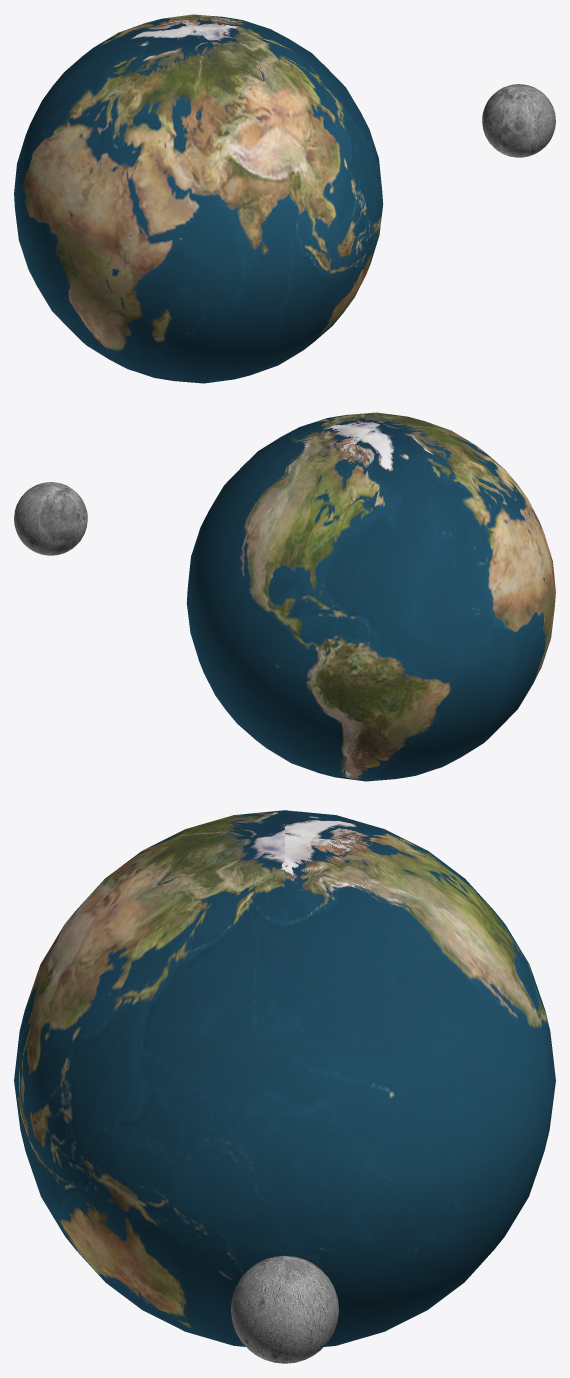
File: Earth.fbx
3 views of the same model, one above another, from view 1: azimuth 30°, elevation 25°; view 2: azimuth 150°, elevation 25°; view 3: azimuth 270°, elevation 25° (orthographic). The views are drawn at different scales.
Visible parts, largest first — view 1: Earth, Moon; view 2: Earth, Moon; view 3: Earth, Moon.
Boxes of the visible parts, x1,y1,x2,y2 form: Earth: (14, 14, 383, 383); Moon: (482, 84, 555, 157); Earth: (186, 412, 555, 781); Moon: (14, 482, 87, 555); Earth: (14, 810, 555, 1346); Moon: (230, 1255, 339, 1363).
Bounding box in the file's own units: 147442 × 92151 × 92151.
2 materials, 2 textured.
